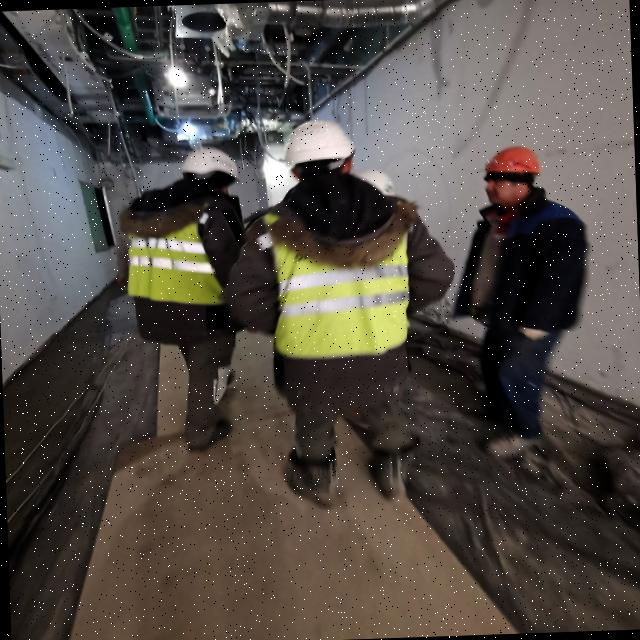Helmet: (281, 119, 357, 172), (178, 149, 242, 183), (483, 149, 540, 180)
Jacket: (263, 188, 413, 361), (122, 193, 227, 307)
NoJacket: (478, 203, 581, 339)
